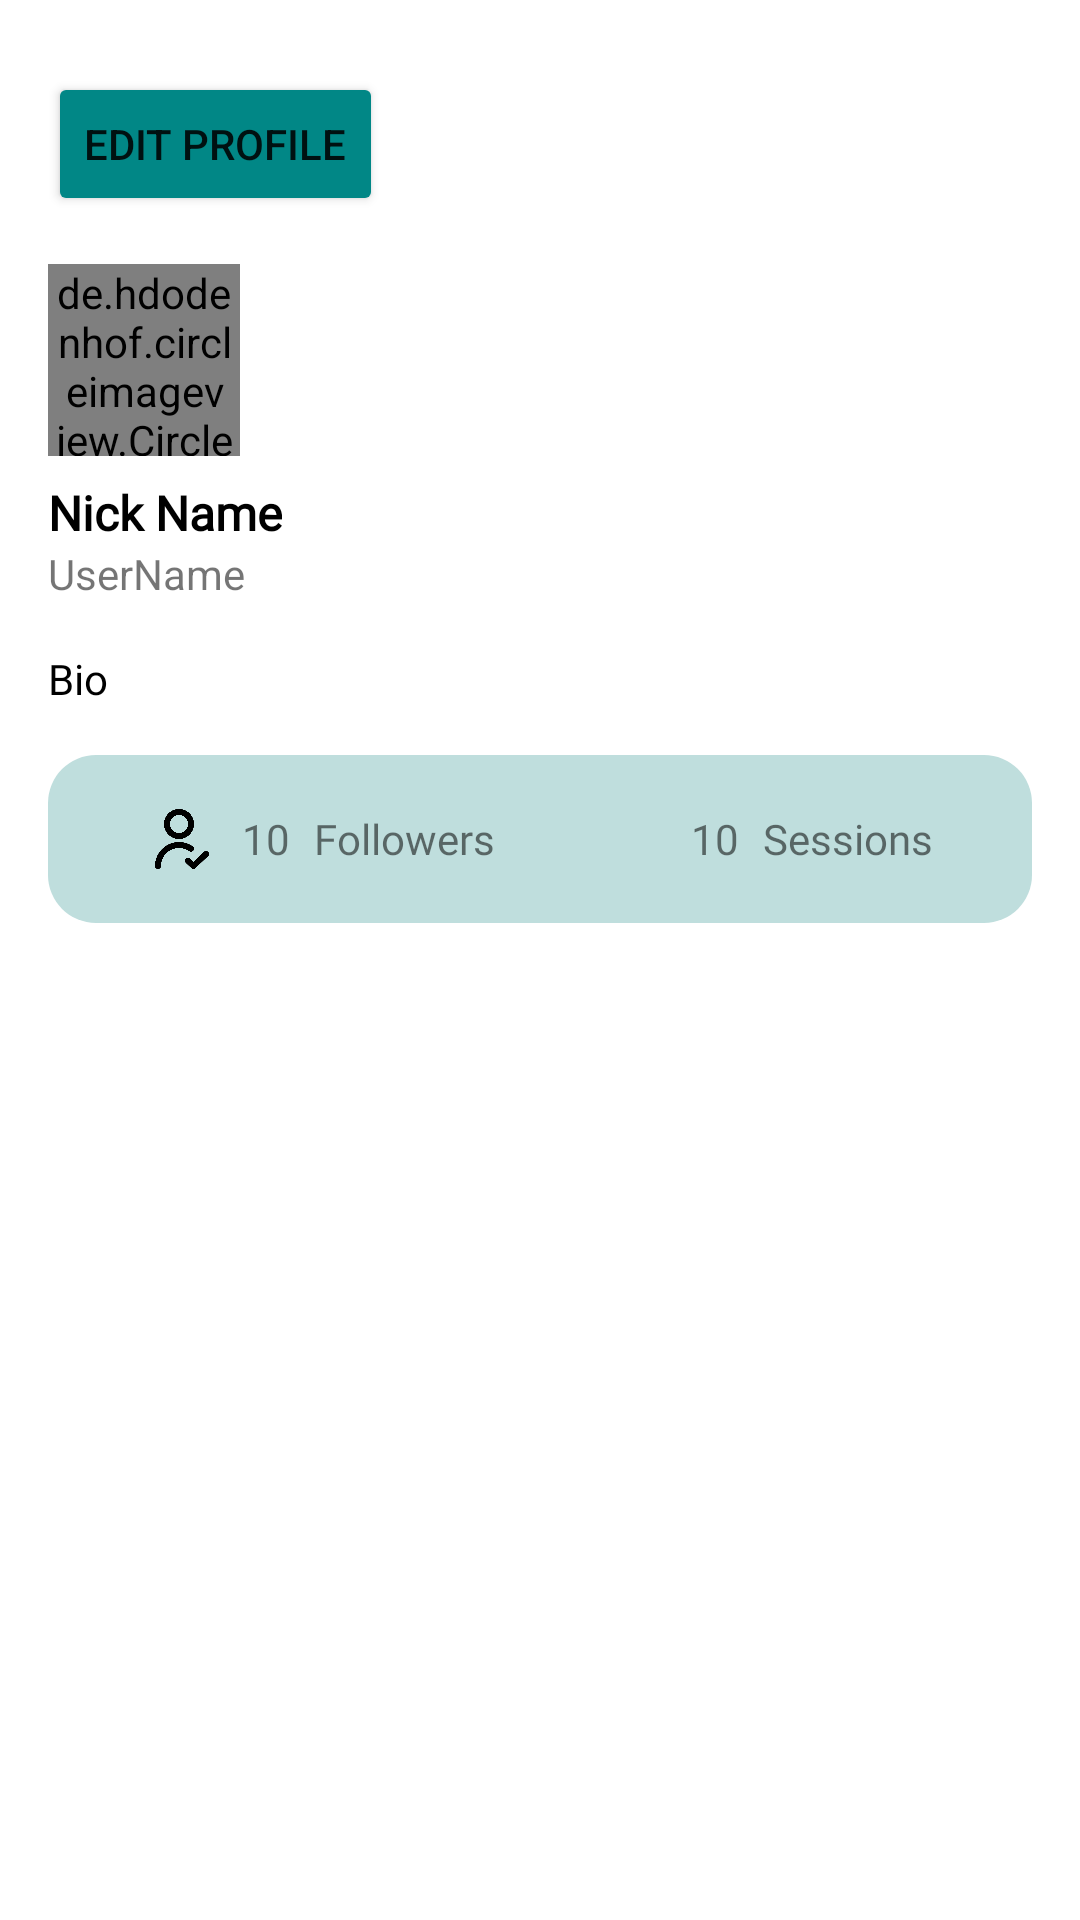

Icons on this 1080px×1920px Android screen, each with the point to tap as [x,y]:
check: [182,839]
